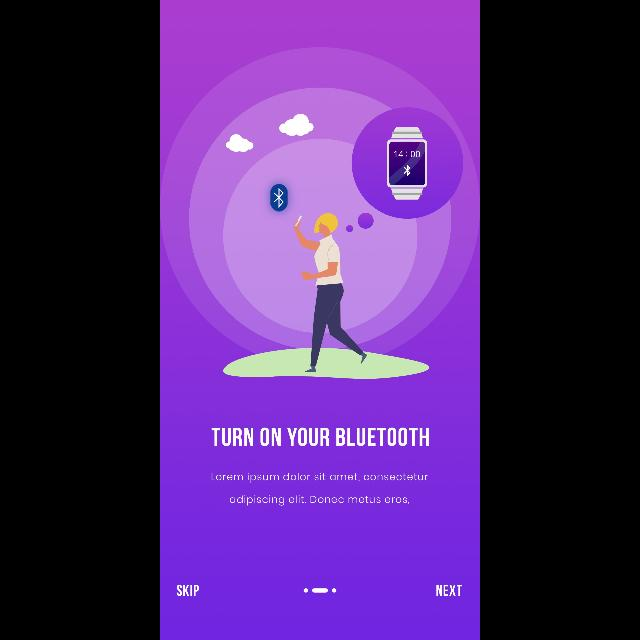image: (213, 106, 463, 380)
pageindicator: (304, 588, 336, 594)
text: (212, 472, 428, 506), (211, 428, 429, 447), (436, 584, 462, 596), (177, 584, 199, 596)
